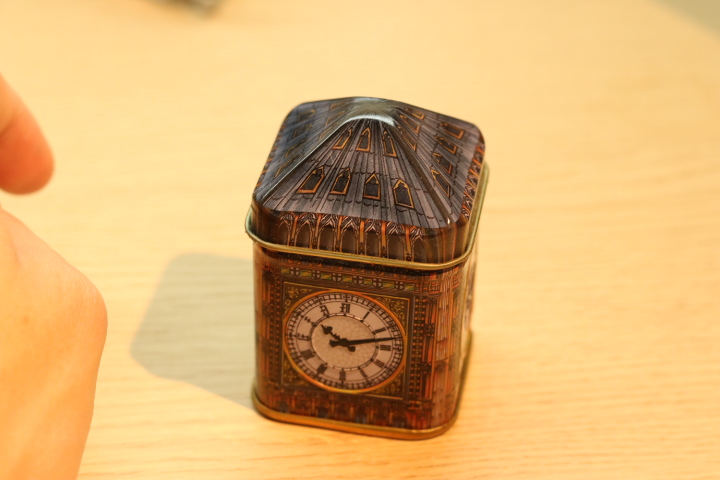Big Ben: (224, 81, 559, 459)
